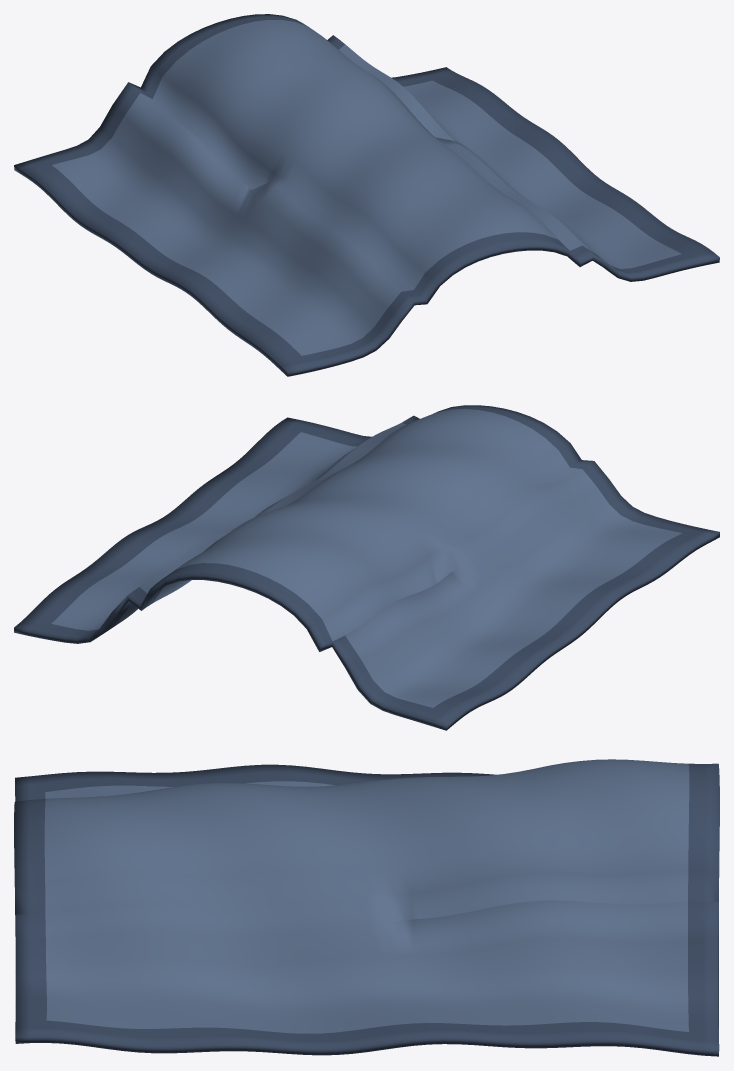
File: teppe.glb
The picture shows the model from 3 angles, top to bottom: view 1: azimuth 30°, elevation 25°; view 2: azimuth 150°, elevation 25°; view 3: azimuth 270°, elevation 25°; orthographic projection. The views are drawn at different scales.
Visible parts, largest first — view 1: Teppe; view 2: Teppe; view 3: Teppe.
Part boxes in pixels (x1,y1,x2,y2): Teppe: (14,14,719,376); Teppe: (14,405,719,730); Teppe: (14,759,719,1056).
Bounding box in the file's own units: 1.05 × 0.2608 × 1.15.
